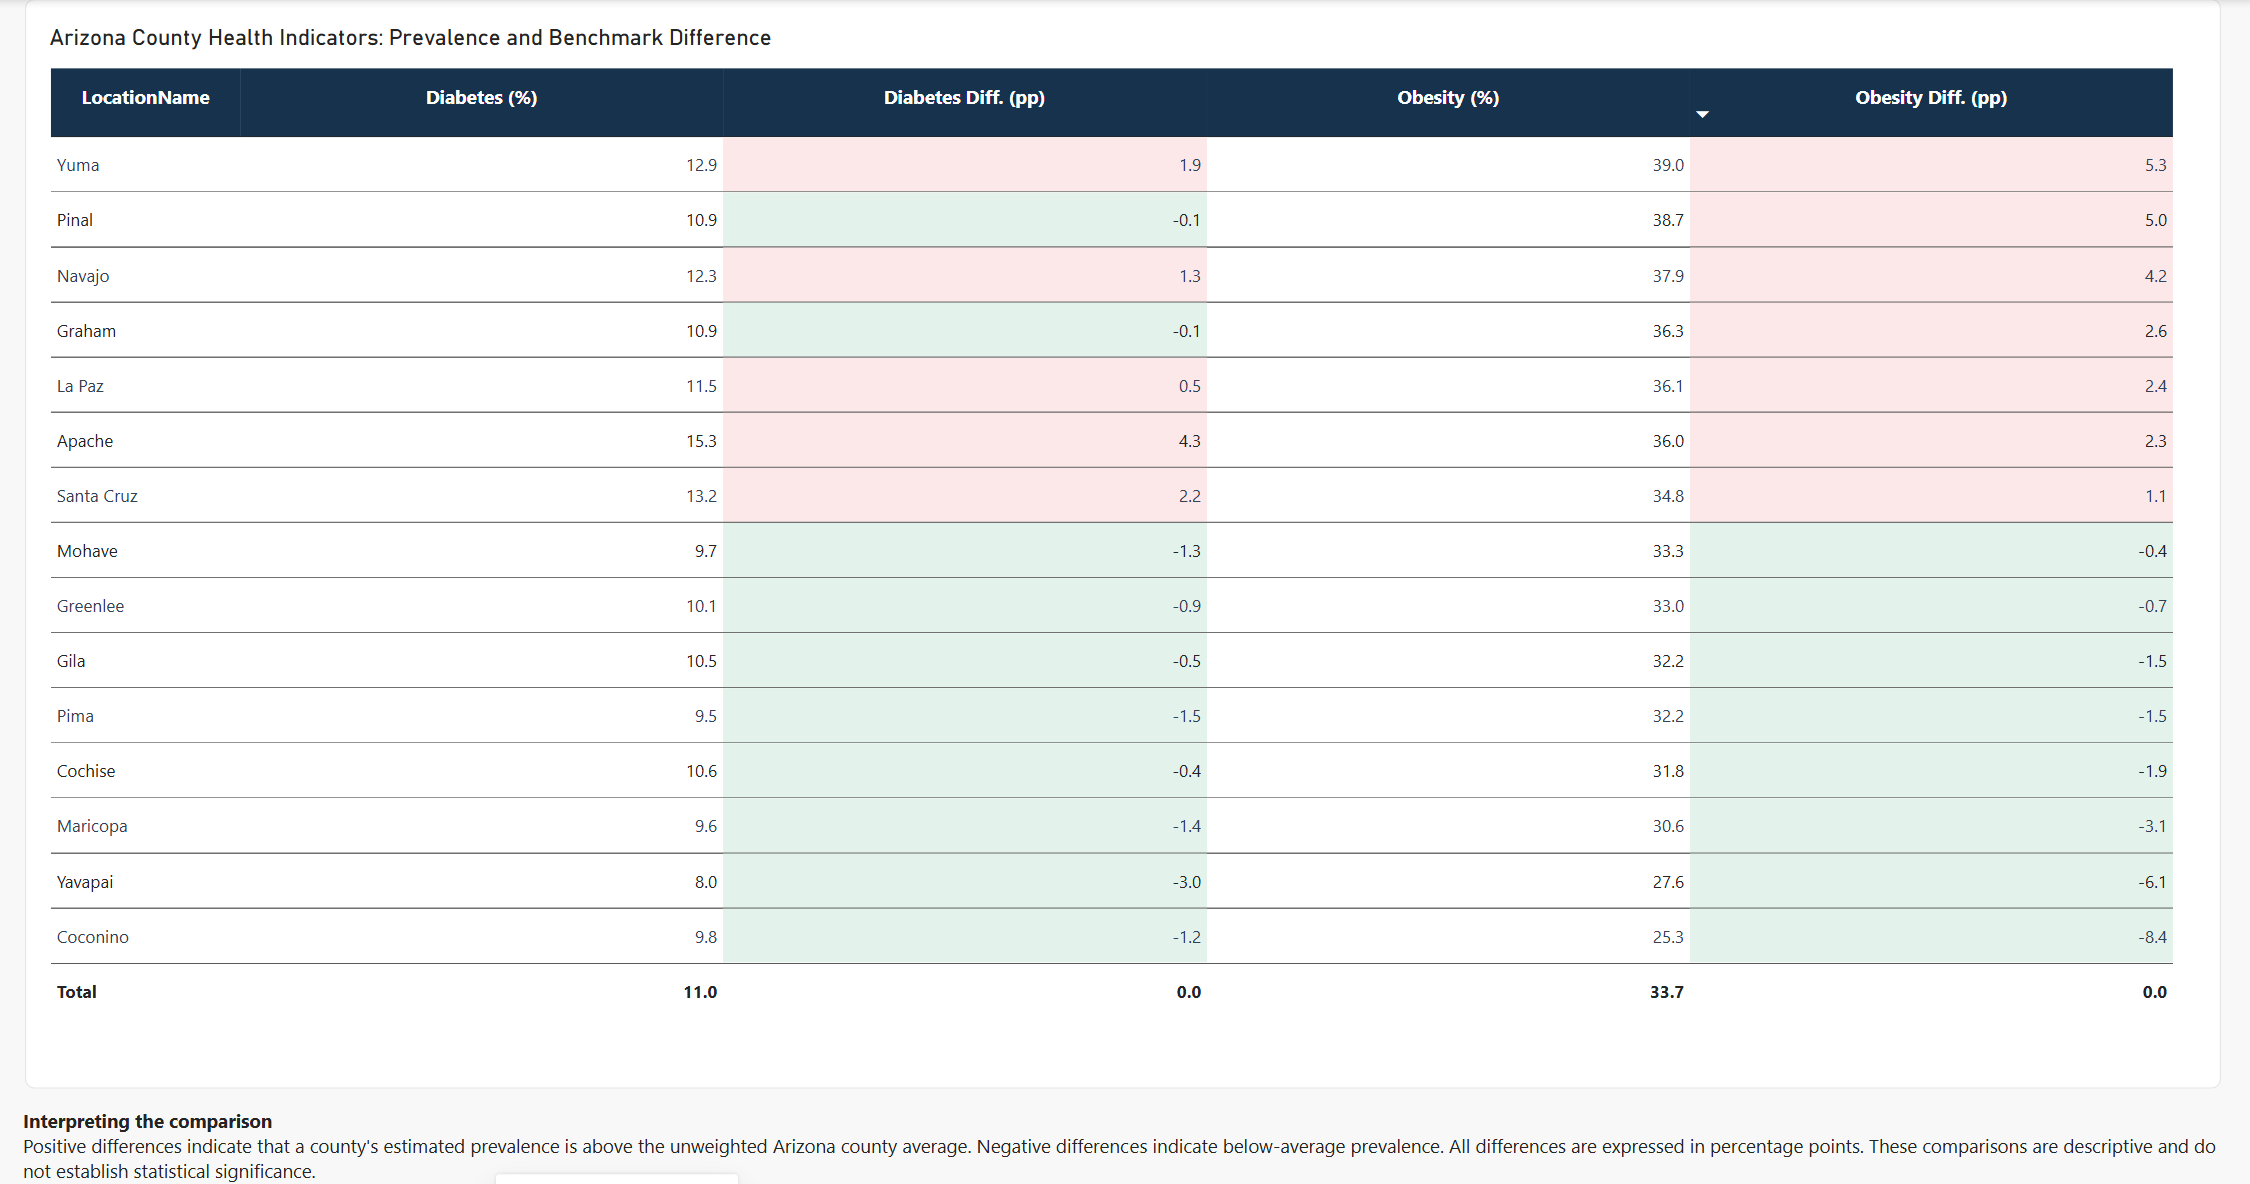

The dashboard page shown, as its layout file describes it:
{"tool":"powerbi","page":{"name":"County Comparison","canvas":[1920,1080],"ordinal":1},"visuals":[{"type":"tableEx","title":"Arizona County Health Indicators: Prevalence and Benchmark Difference","fields":{"Values":["CDC_PLACES_Arizona_2025.LocationName","CDC_PLACES_Arizona_2025.Average Diabetes Prevalence","CDC_PLACES_Arizona_2025.Diabetes Difference(pp)","CDC_PLACES_Arizona_2025.Average Obesity Prevalence","CDC_PLACES_Arizona_2025.Obesity Difference(pp)"]},"box":[22.7,0,1872.7,929.5],"z":0},{"type":"textbox","box":[20.5,945.5,1875,86.4],"z":1}]}

Visuals, with their boxes on the page's 1920x1080 design canvas (x1, y1, x2, y2). These are canvas units, not pixel positions in the 2250x1184 screenshot, which may show the page scaled, cropped or inside an application window:
"Arizona County Health Indicators: Prevalence and Benchmark Difference" tableEx: select_region(23, 0, 1895, 930)
textbox: select_region(20, 946, 1896, 1032)
